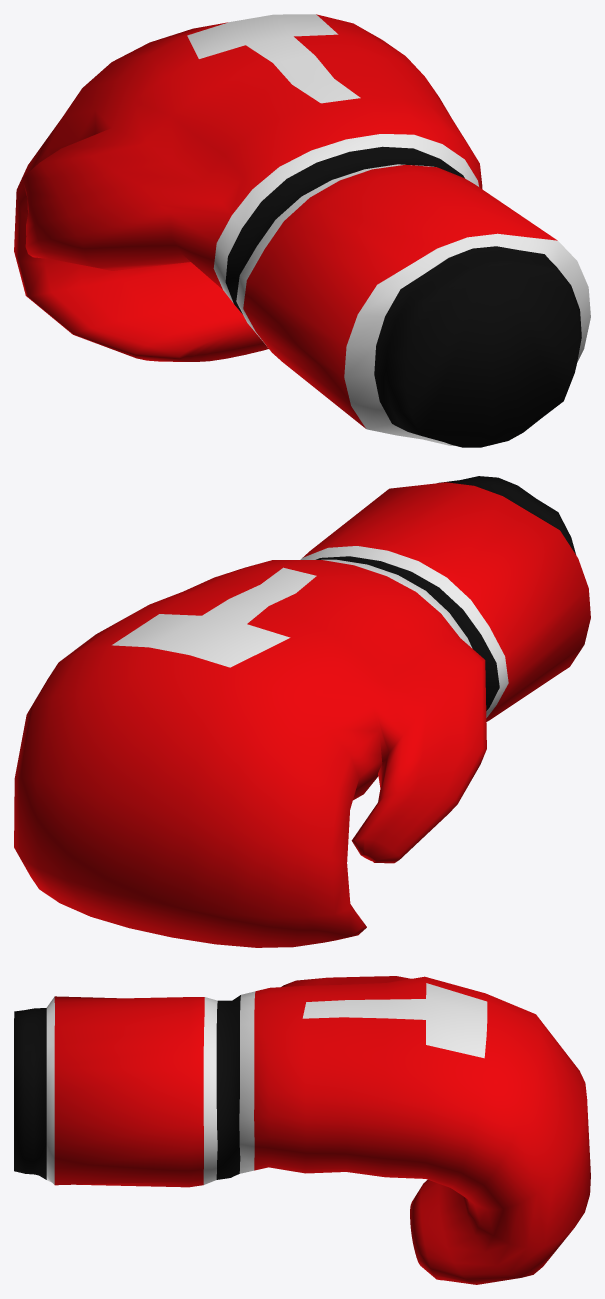
File: Glove new.fbx
The picture shows the model from 3 angles, top to bottom: view 1: azimuth 30°, elevation 25°; view 2: azimuth 150°, elevation 25°; view 3: azimuth 270°, elevation 25°; orthographic projection. The views are drawn at different scales.
Parts seen in each view (by area): view 1: Cylinder; view 2: Cylinder; view 3: Cylinder.
Boxes of the visible parts, x1=… form: Cylinder: x1=14, y1=14, x2=590, y2=447; Cylinder: x1=14, y1=476, x2=590, y2=947; Cylinder: x1=14, y1=976, x2=590, y2=1284.
Bounding box in the file's own units: 260 × 195 × 405.
